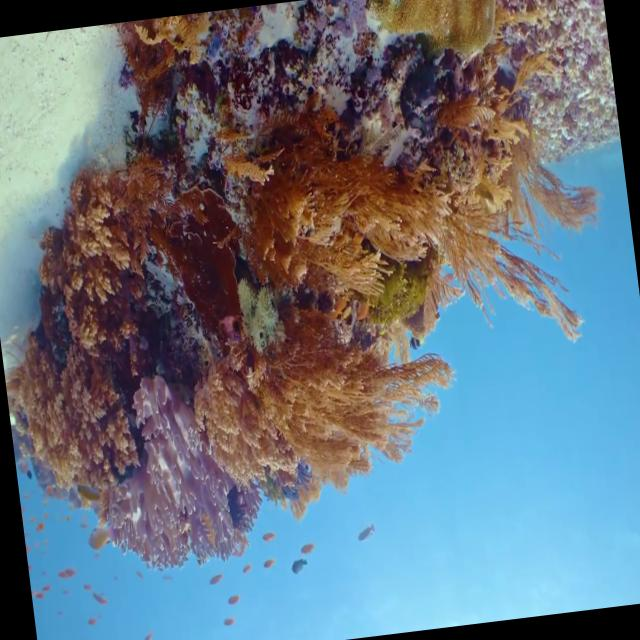fish: (81, 517, 120, 552), (88, 578, 111, 615), (352, 522, 380, 551), (284, 552, 312, 578), (259, 547, 283, 576), (217, 611, 242, 638), (208, 564, 230, 590), (224, 585, 245, 612), (294, 532, 318, 554), (134, 622, 163, 640)
